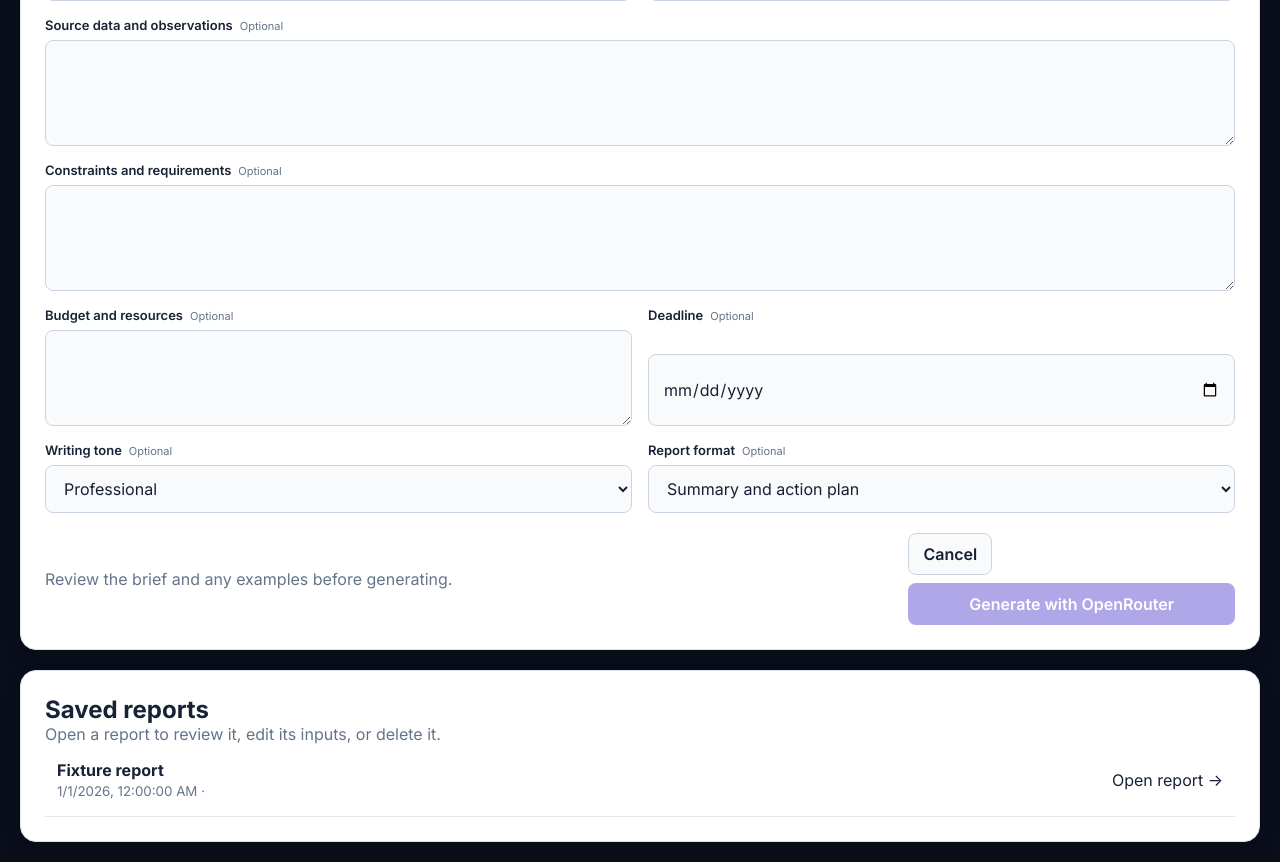
it: returned and saved structured reports render facts, table, false, zero and empty strings
(page scrolled)
Click the button with class "ai-history-row": (110,770) [45,744,1235,817]
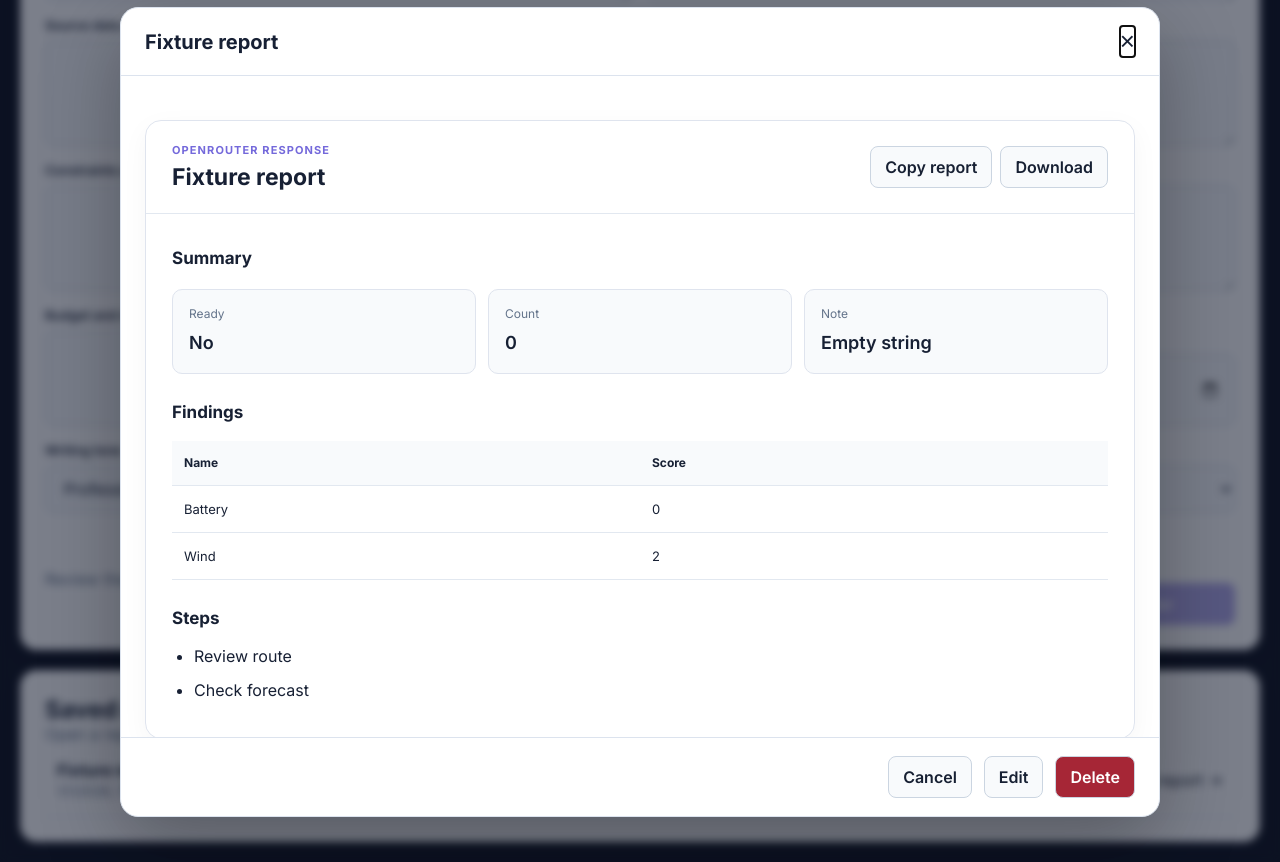
Expected: the text "Battery" is shown, [184,501,228,517]
Expected: the text "No" is shown, [189,332,214,353]
